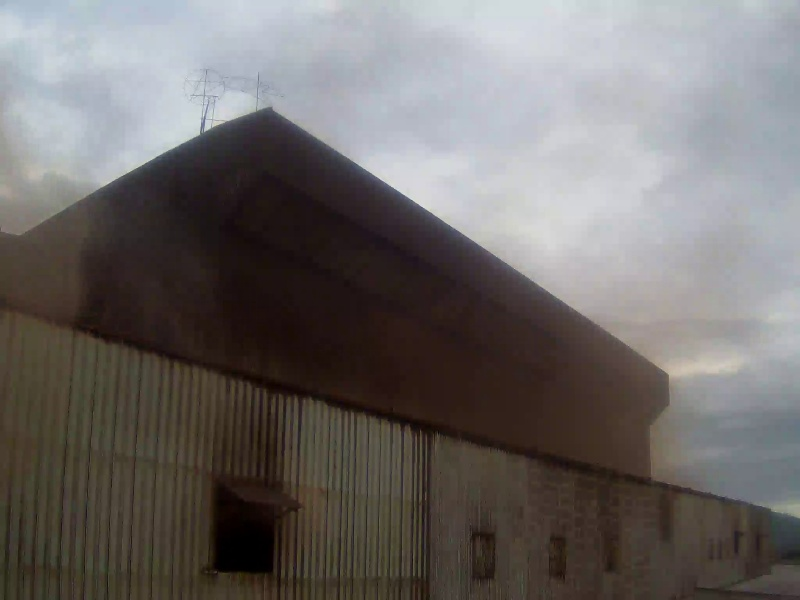ruim: (261, 71, 728, 494), (5, 40, 251, 337)
